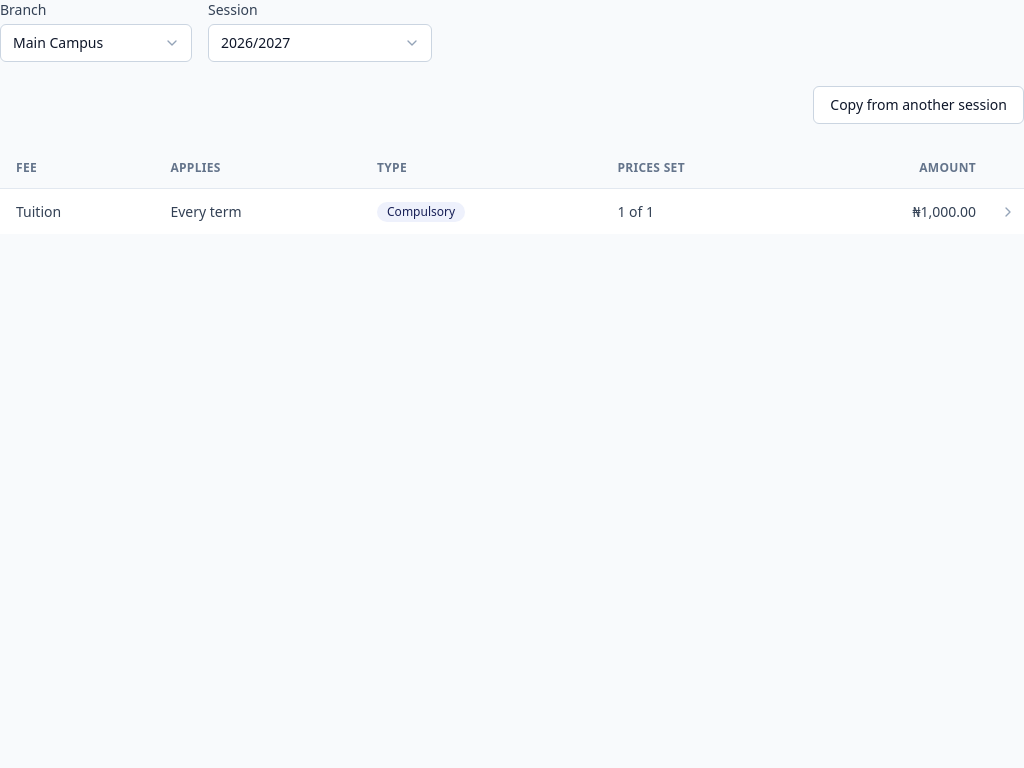
Test: PricesTab › saving in the modal refreshes the list and shows a success dialog
Click the text "Tuition" at (39, 211), box [0,188,154,234]
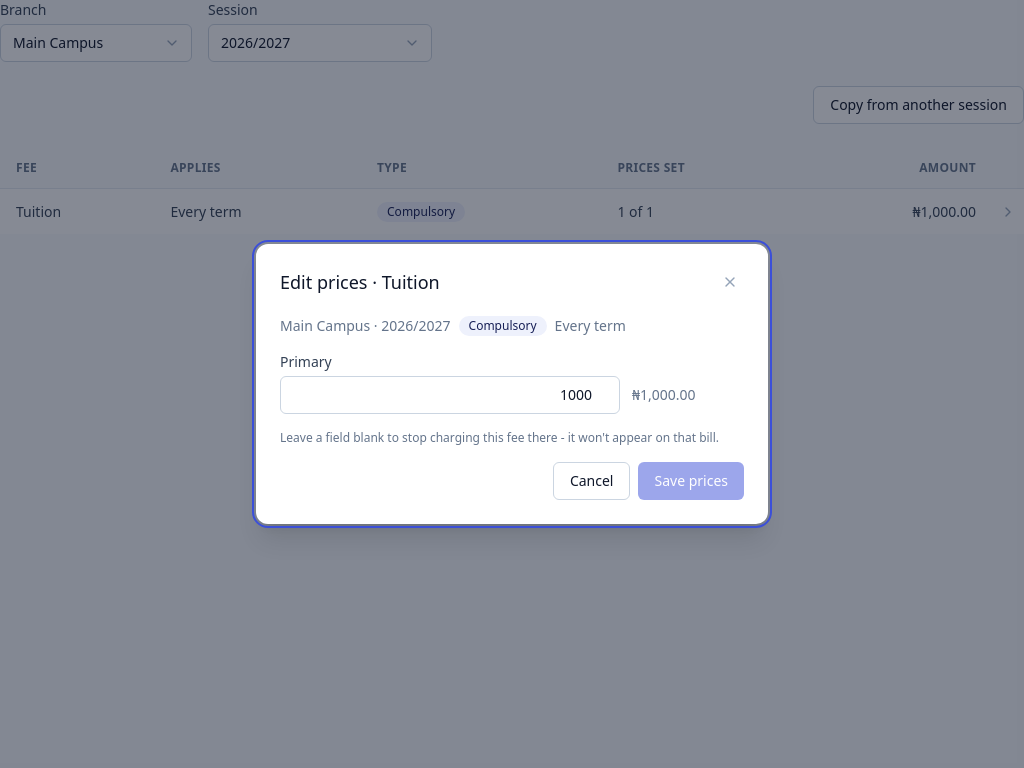
Replace the text in the number field named "Tuition price for Primary" with "1500" at (450, 395), box [280,376,620,414]
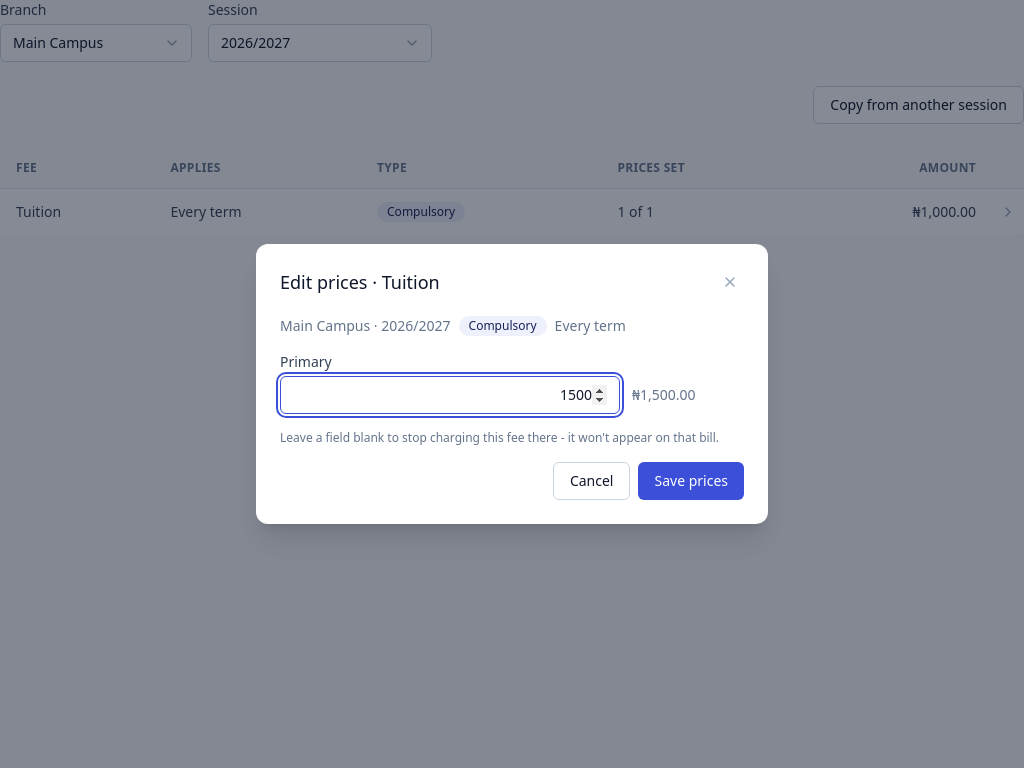
Click the button "Save prices" at (691, 481), box [638,462,744,500]
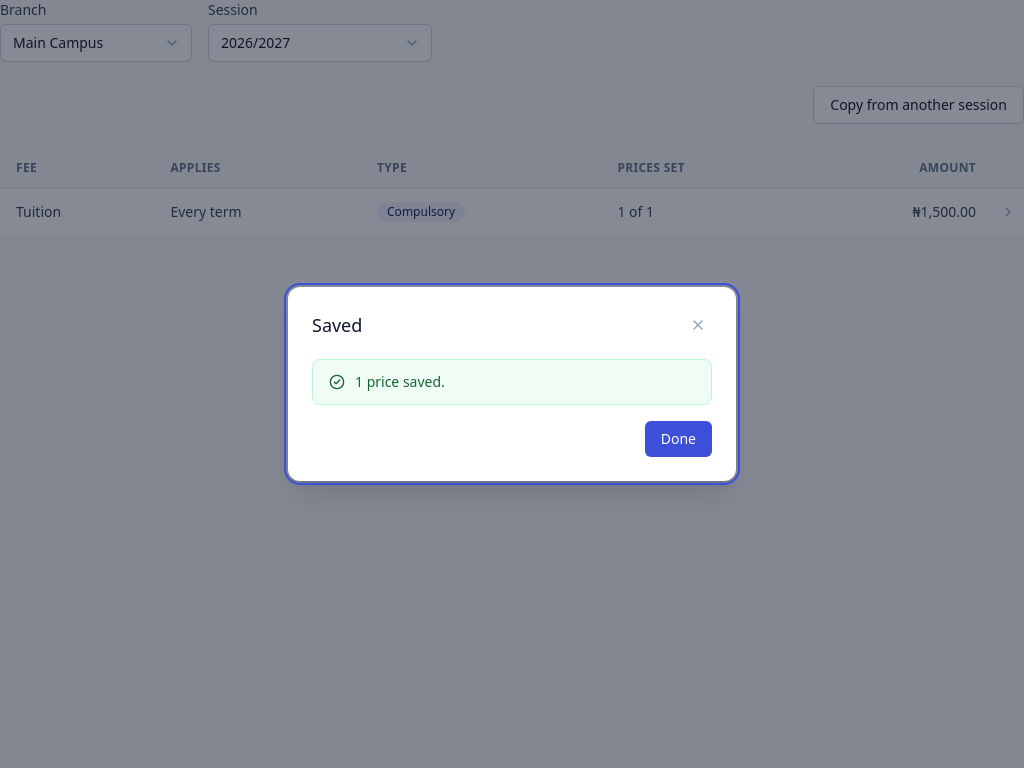
Check: the text "1 price saved." is shown, box [355,372,445,392]
Check: the text "₦1,500.00" is shown, box [801,188,992,234]
